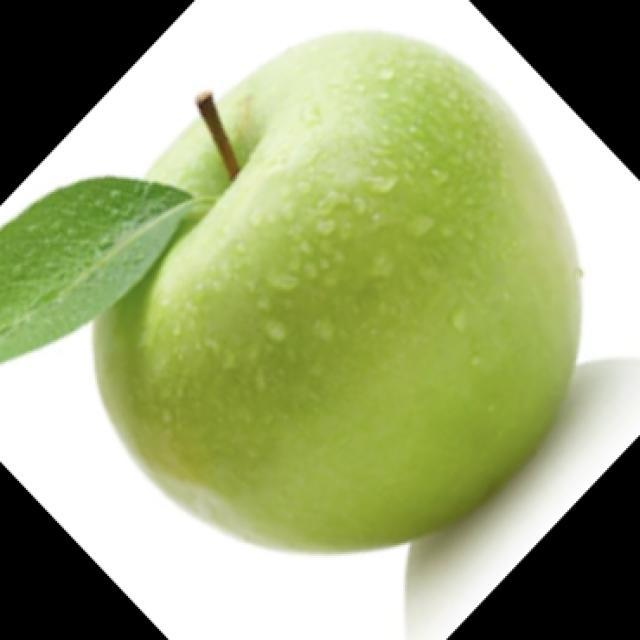Fresh Apple: (93, 27, 592, 560)
